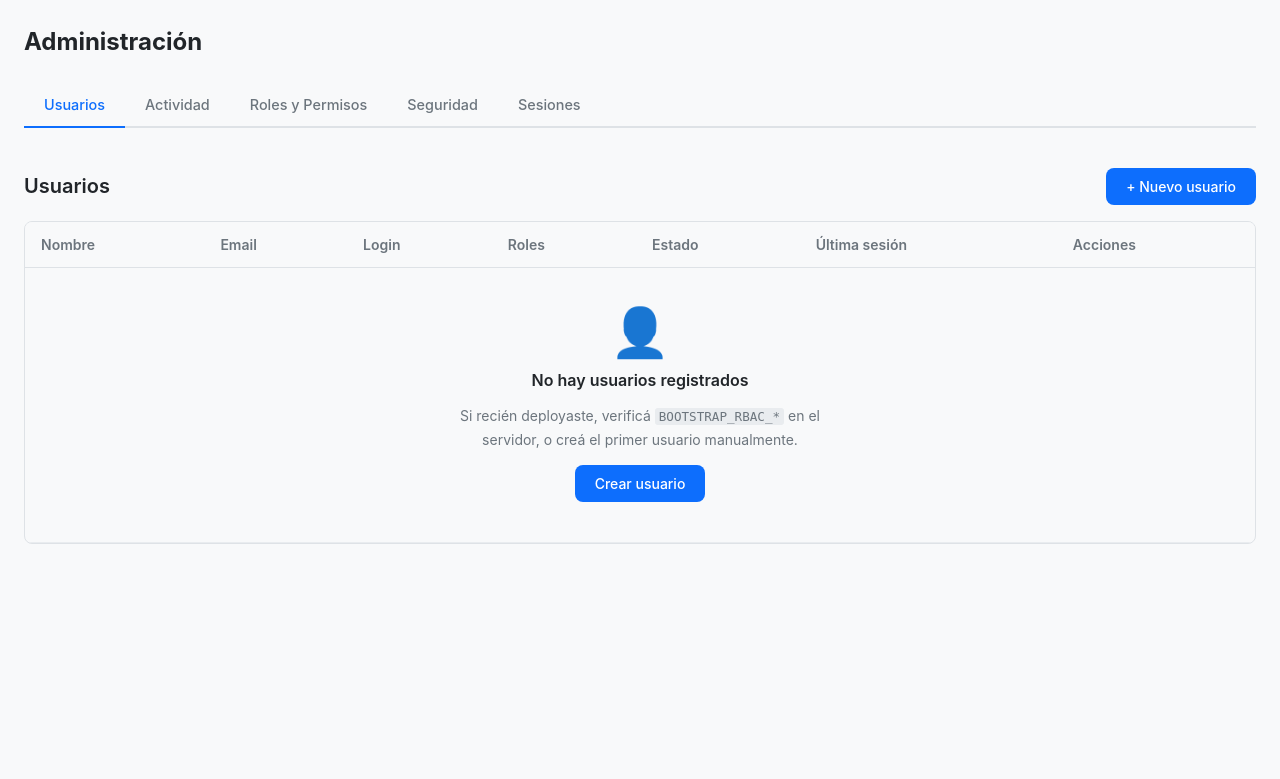
it: AdminPage › switching to Seguridad tab shows "Política de contraseñas" section
Click the button "Seguridad" at coordinates (443, 106), box [387,84,498,128]
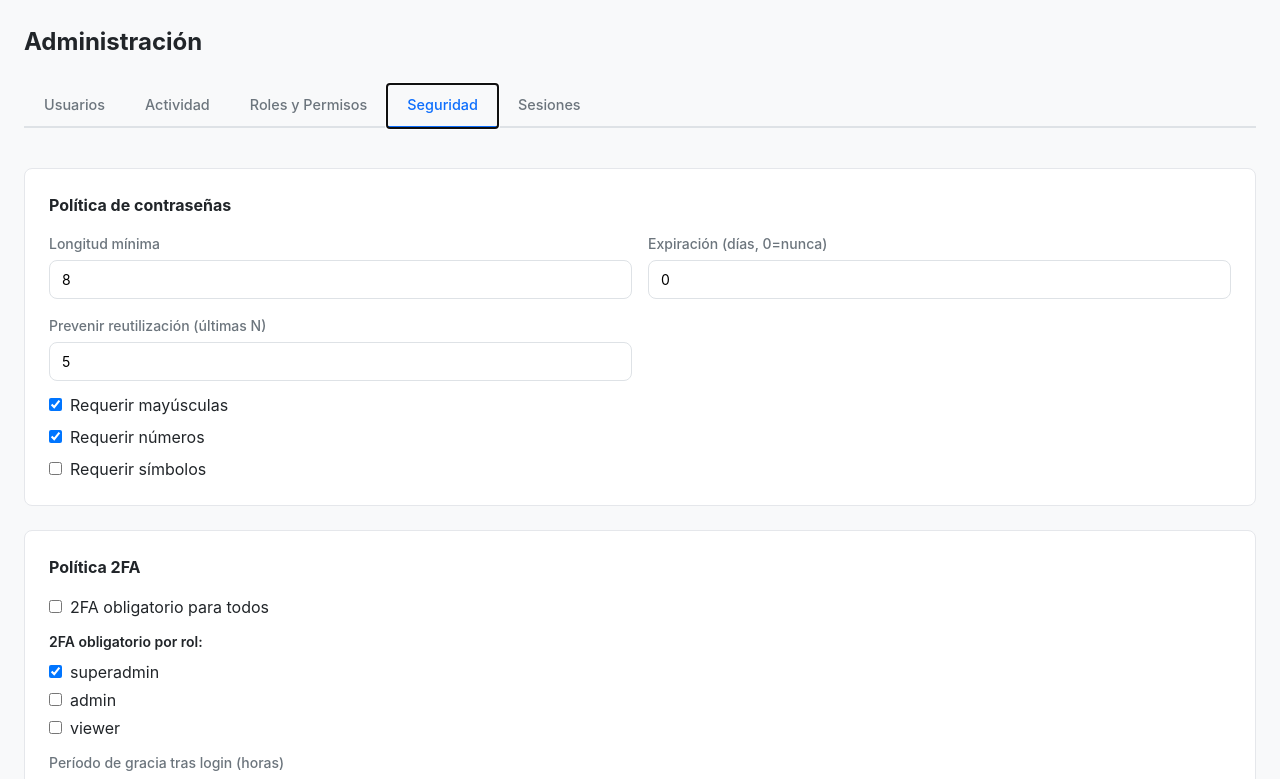
expect the heading "Política de contraseñas" is shown: met, box [49,195,231,215]
